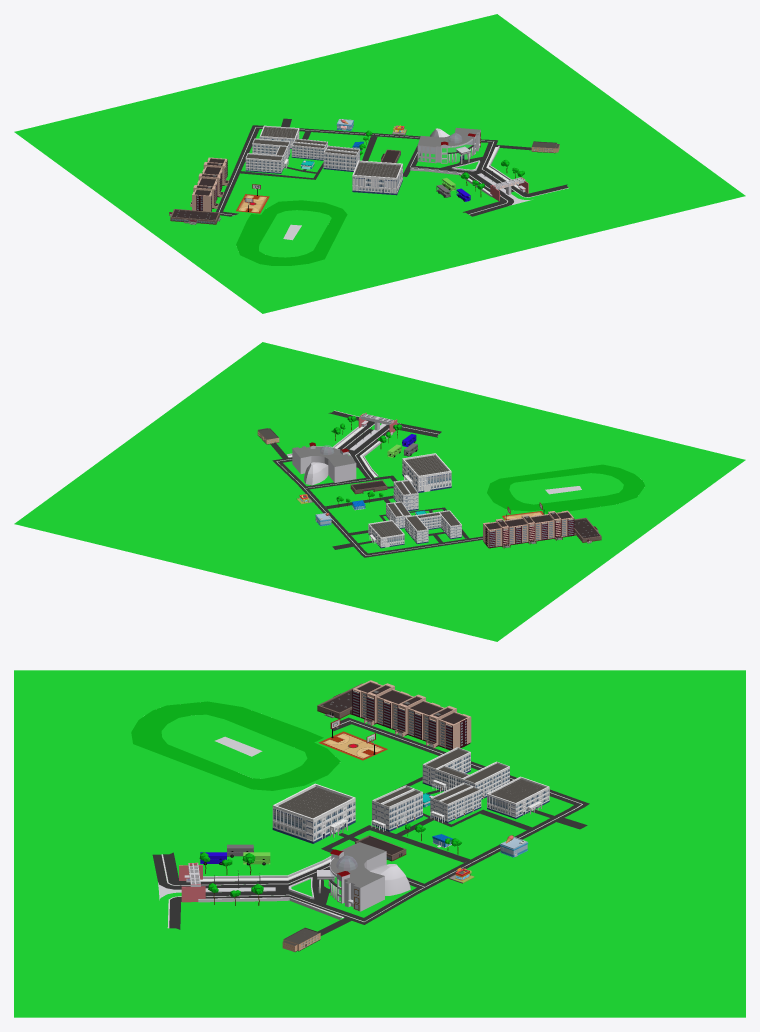
3 views of the same model, one above another, from view 1: azimuth 30°, elevation 25°; view 2: azimuth 150°, elevation 25°; view 3: azimuth 270°, elevation 25° (orthographic). The views are drawn at different scales.
Parts seen in each view (by area): view 1: Ground, Road, Admin sggs, Entc, Object_5.003, Textile.003, Textile, Object_10.007, Production, cixil, Textile.001, Object_6.002; view 2: Ground, Road, Admin sggs, Object_5.003, Entc, Object_6.002, Production, Textile.001; view 3: Ground, Road, Admin sggs, Object_5.003, Entc, Production, Object_6.002, Textile.002, Textile.004, Textile.003, Textile.001, Basketball (+6 smaller).
Part boxes in pixels (left/top/right/bottom): Ground: left=14, top=14, right=745, bottom=313; Road: left=216, top=118, right=568, bottom=216; Admin sggs: left=417, top=127, right=480, bottom=163; Entc: left=352, top=160, right=402, bottom=195; Object_5.003: left=190, top=157, right=228, bottom=211; Textile.003: left=245, top=153, right=283, bottom=173; Textile: left=323, top=149, right=358, bottom=171; Object_10.007: left=170, top=209, right=219, bottom=224; Production: left=259, top=125, right=299, bottom=148; cixil: left=291, top=142, right=325, bottom=160; Textile.001: left=252, top=138, right=290, bottom=158; Object_6.002: left=193, top=167, right=228, bottom=204; Ground: left=14, top=342, right=745, bottom=641; Road: left=270, top=410, right=482, bottom=557; Admin sggs: left=292, top=442, right=356, bottom=485; Object_5.003: left=483, top=511, right=574, bottom=548; Entc: left=402, top=453, right=451, bottom=492; Object_6.002: left=505, top=510, right=571, bottom=544; Production: left=368, top=520, right=404, bottom=548; Textile.001: left=405, top=515, right=428, bottom=543; Ground: left=14, top=670, right=745, bottom=1017; Road: left=152, top=717, right=589, bottom=935; Admin sggs: left=317, top=842, right=410, bottom=911; Object_5.003: left=352, top=680, right=471, bottom=750; Entc: left=272, top=783, right=355, bottom=843; Production: left=487, top=776, right=549, bottom=818; Object_6.002: left=352, top=681, right=441, bottom=744; Textile.002: left=380, top=788, right=422, bottom=831; Textile.004: left=439, top=786, right=481, bottom=822; Textile.003: left=422, top=747, right=470, bottom=787; Textile.001: left=461, top=761, right=509, bottom=799; Basketball: left=318, top=731, right=387, bottom=760.
Size of what is drawn, in the model's own units: 32.33 by 1.67 by 28.82.
Materials: 62 (13 with a texture image).
